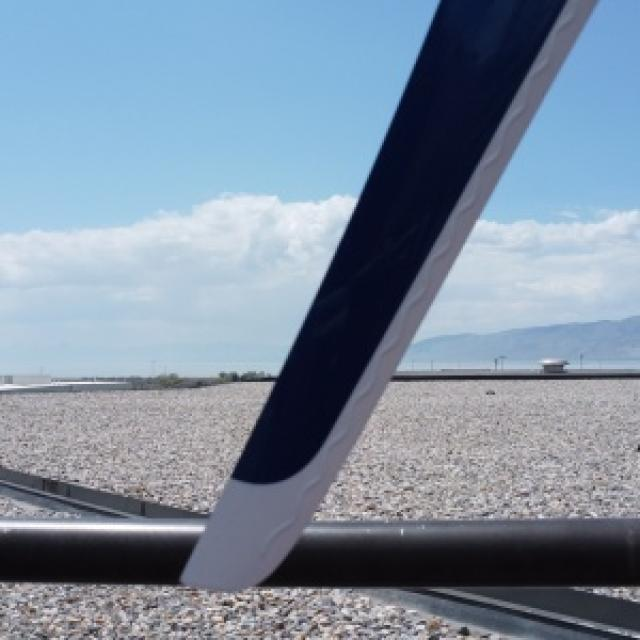healthy: (0, 224, 158, 365)
